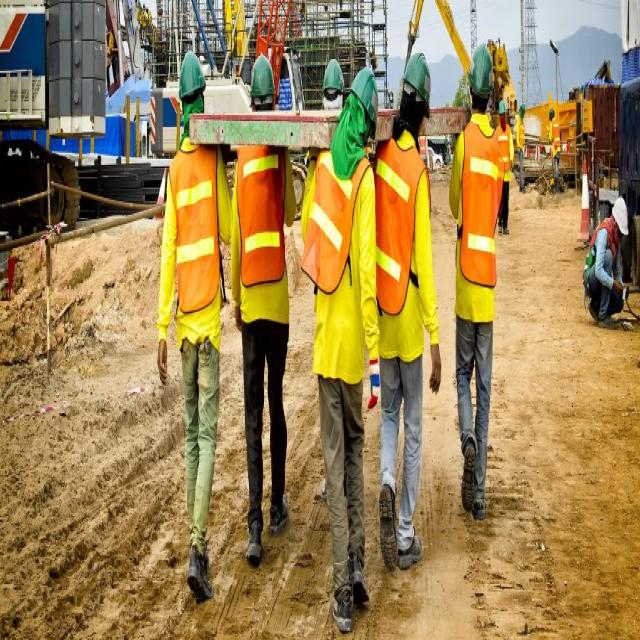Reflective-Jacket: (375, 133, 433, 325), (164, 136, 220, 334), (306, 147, 373, 304), (235, 141, 291, 319), (456, 113, 503, 318), (582, 201, 618, 293)
Safety-Helmet: (400, 38, 434, 106), (466, 38, 496, 103), (176, 45, 208, 103), (348, 64, 379, 116), (248, 50, 276, 103), (320, 53, 346, 97), (611, 192, 631, 238), (498, 97, 508, 118)
